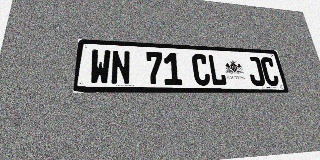1: (163, 52, 182, 85)
7: (145, 52, 164, 85)
C: (191, 54, 211, 86), (260, 57, 280, 86)
J: (246, 56, 266, 86)
L: (207, 55, 227, 86)
N: (111, 50, 130, 85)
W: (89, 49, 111, 85)
